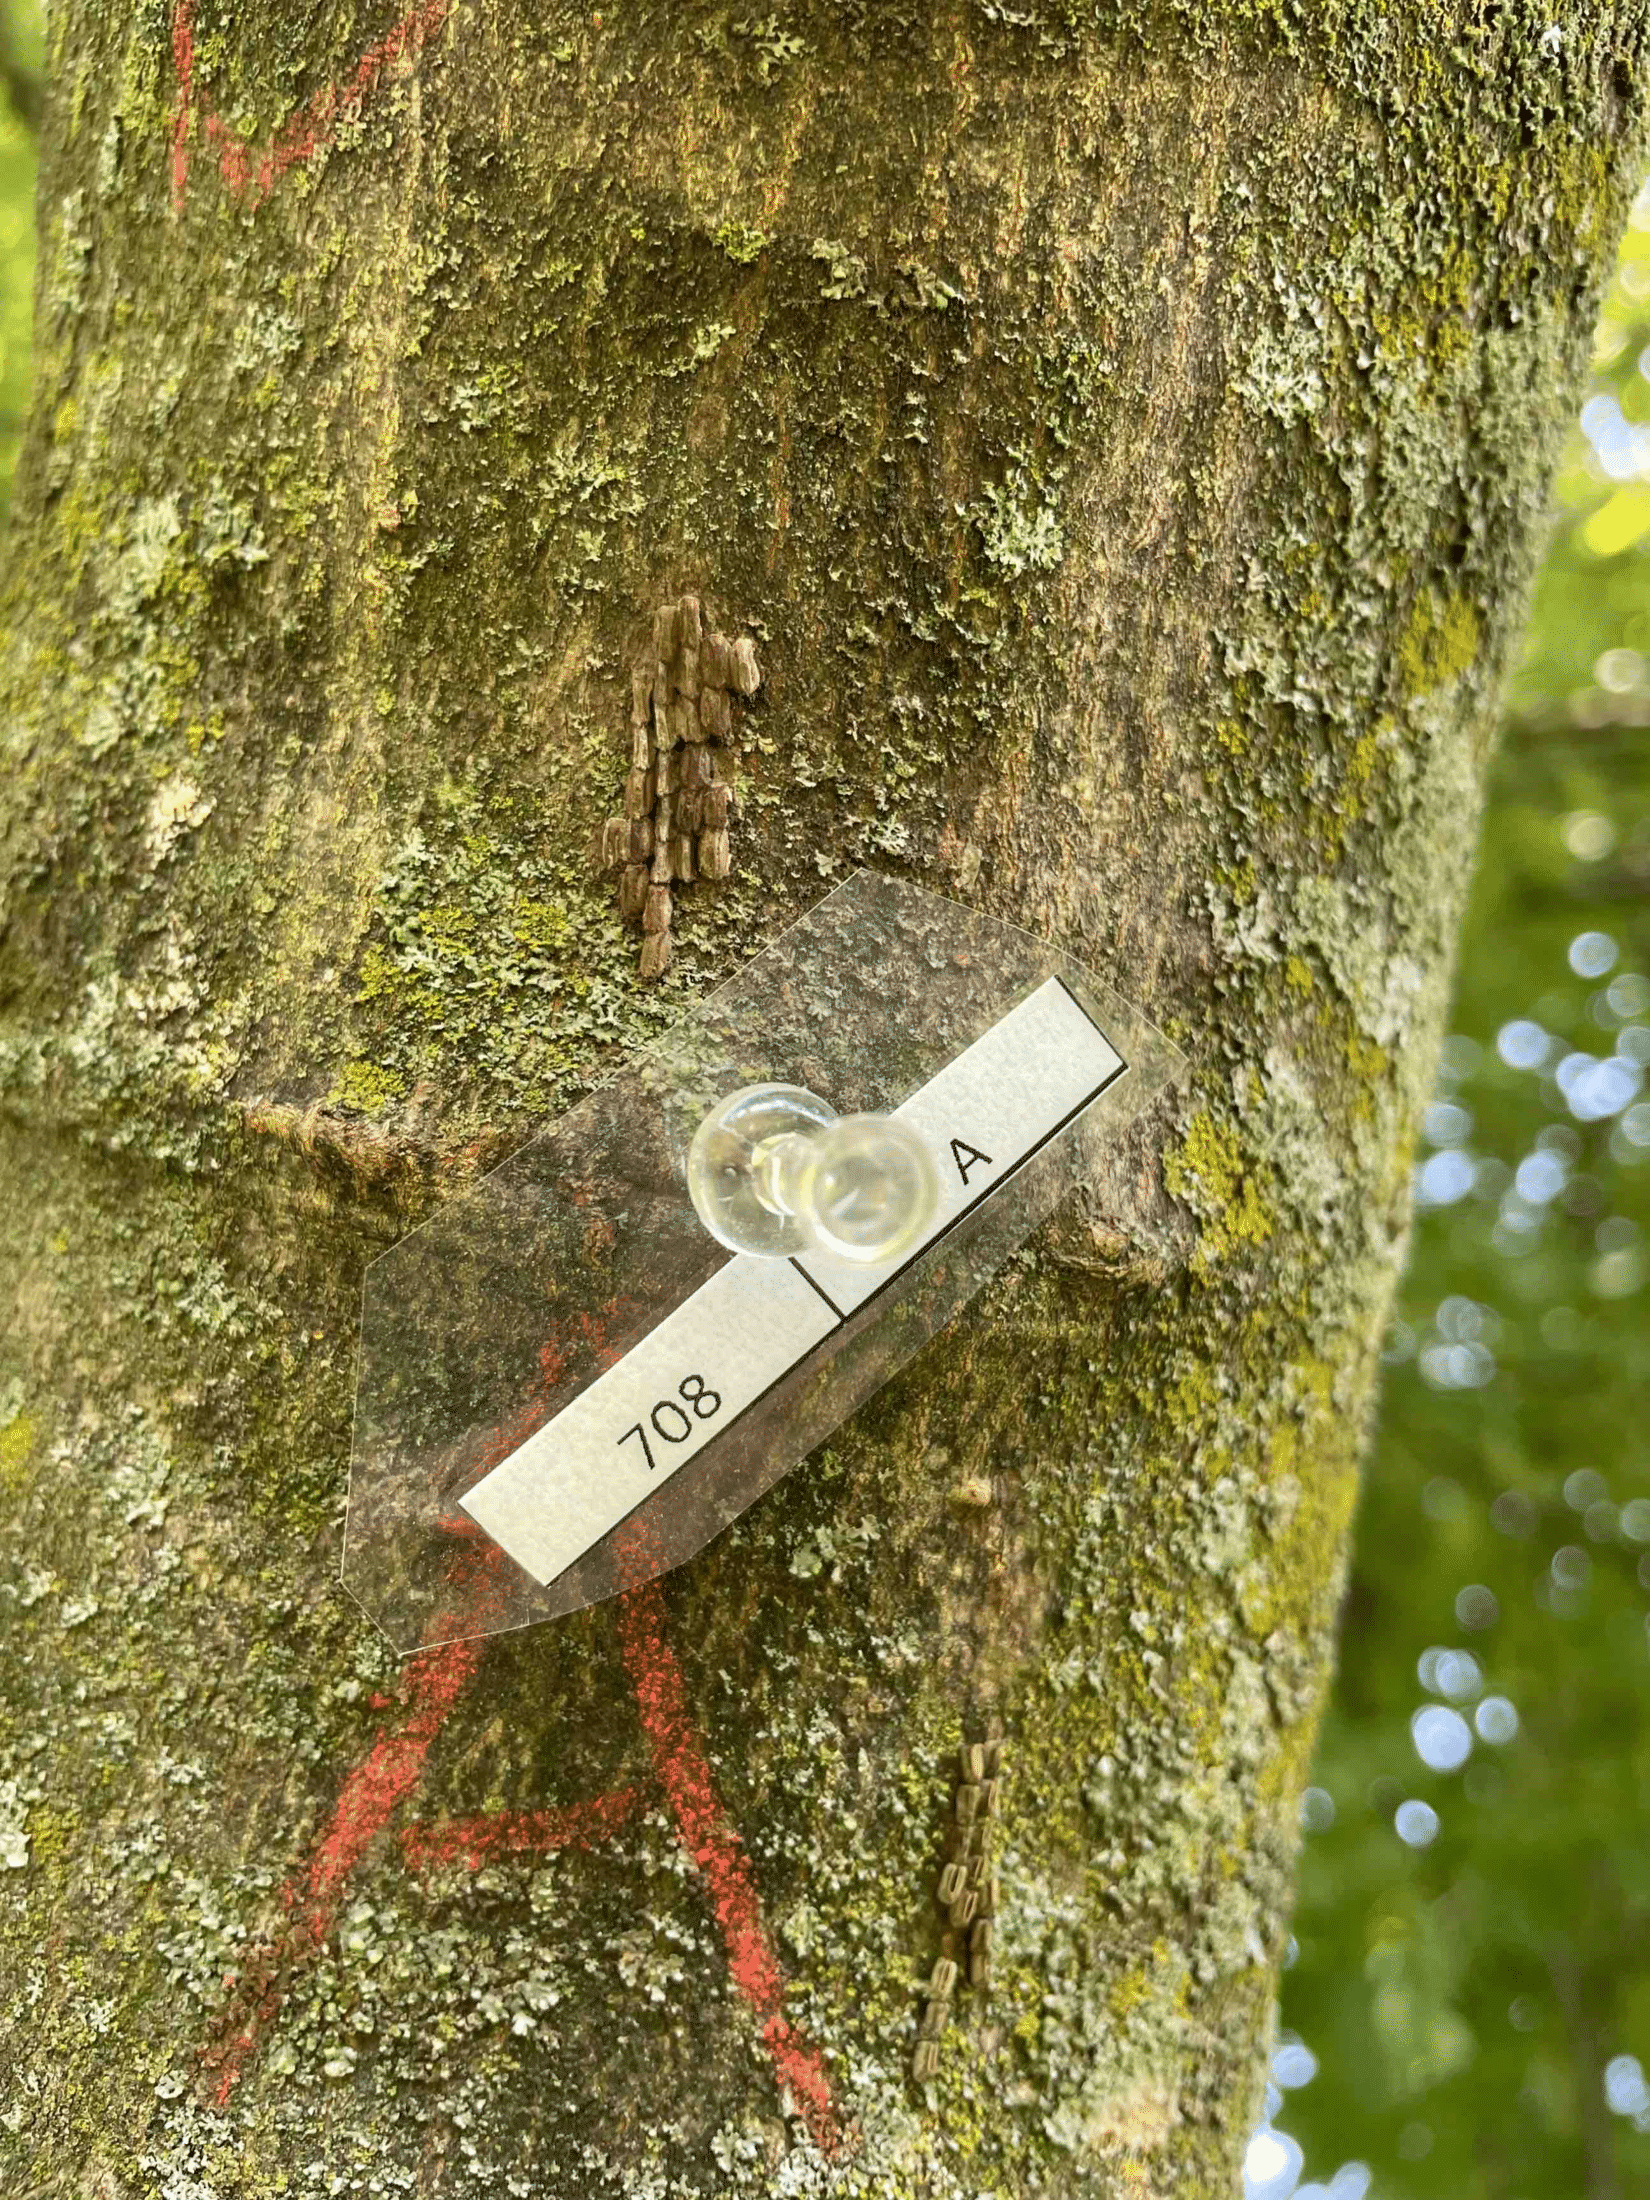egg masses: (541, 525, 785, 980), (969, 1684, 1068, 2112)
